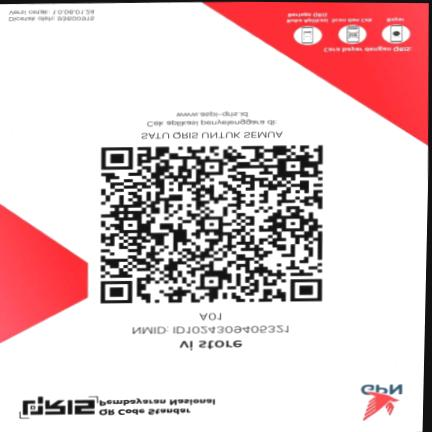Cara Pakai QRIS: (266, 2, 425, 55)
Cek Aplikasi Penyelenggara: (132, 108, 295, 127)
Dicetak Oleh: (5, 15, 95, 23)
Logo GPN: (349, 379, 413, 424)
Logo dan deskripsi QRIS: (12, 391, 229, 421)
Nama Merchant: (168, 338, 251, 354)
National Merchant ID: (126, 321, 293, 337)
QR Code: (89, 141, 337, 308)
Slogan: (135, 127, 289, 141)
Terminal ID: (196, 310, 228, 321)
Versi Cetak: (5, 8, 95, 16)
